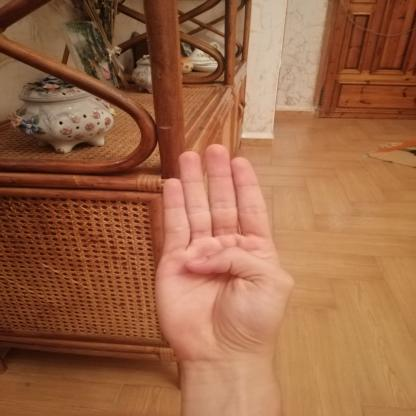KAAF: (134, 136, 309, 374)
